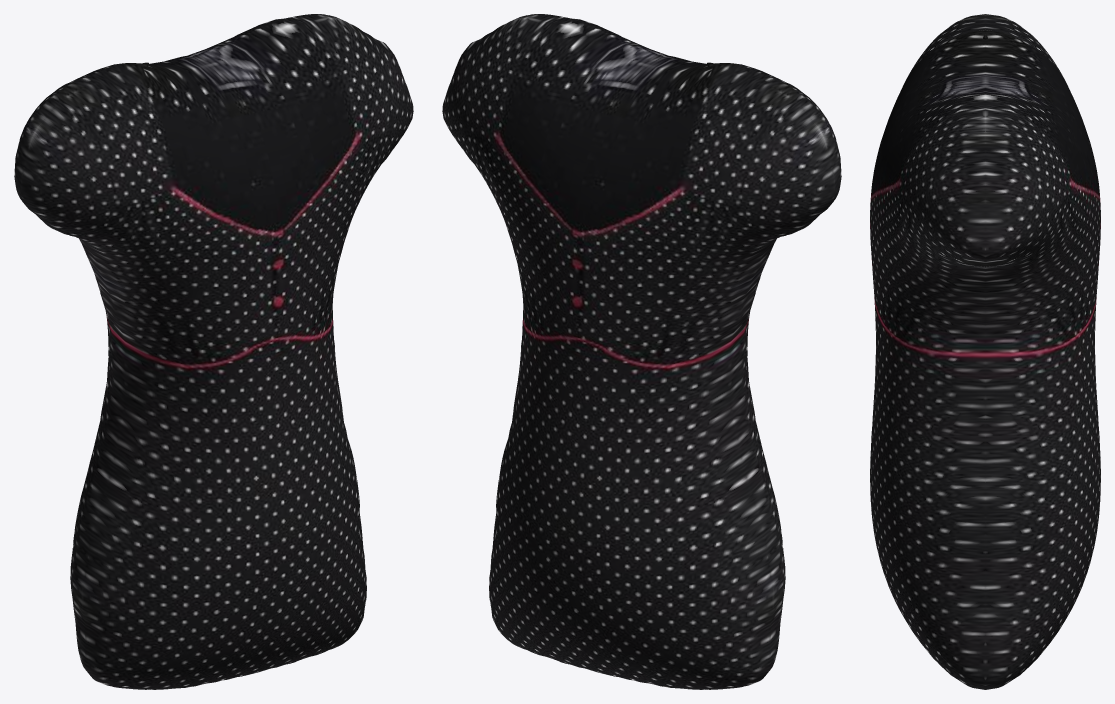
File: 4VI21D01E-Q11@14=cloth_front.glb
3 renders of one model, left to right at view 1: azimuth 30°, elevation 25°; view 2: azimuth 150°, elevation 25°; view 3: azimuth 270°, elevation 25°, orthographic. The views are drawn at different scales.
Size of the model in its own units: 4.46 by 6.88 by 2.51.
1 material, 1 textured.
